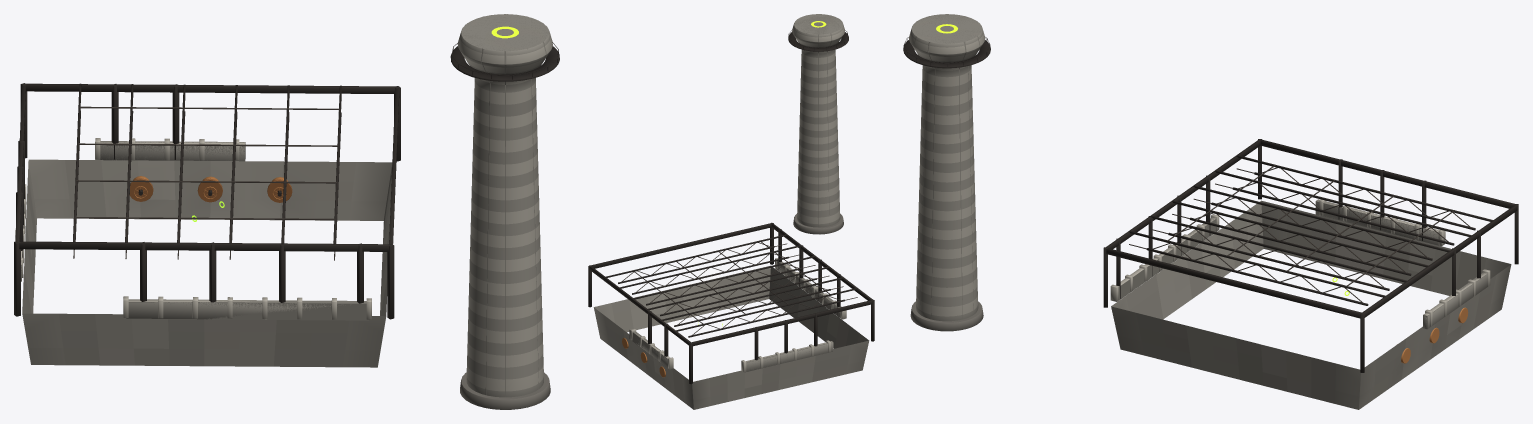
The model's file is landmark_penstock_tower.glb.
The picture shows the model from 3 angles, left to right: view 1: azimuth 30°, elevation 25°; view 2: azimuth 150°, elevation 25°; view 3: azimuth 270°, elevation 25°; orthographic projection. The views are drawn at different scales.
Visible parts, largest first — view 1: landmark_penstock_tower, landmark_penstock_tower-col-col; view 2: landmark_penstock_tower, landmark_penstock_tower-col-col; view 3: landmark_penstock_tower, landmark_penstock_tower-col-col.
Boxes of the visible parts, left/top/right/bottom form: landmark_penstock_tower: left=14, top=14, right=559, bottom=409; landmark_penstock_tower-col-col: left=21, top=14, right=552, bottom=397; landmark_penstock_tower: left=588, top=14, right=874, bottom=409; landmark_penstock_tower-col-col: left=629, top=14, right=844, bottom=372; landmark_penstock_tower: left=903, top=14, right=1518, bottom=409; landmark_penstock_tower-col-col: left=912, top=14, right=1488, bottom=329.
Bounding box in the file's own units: 119 × 104 × 177.
